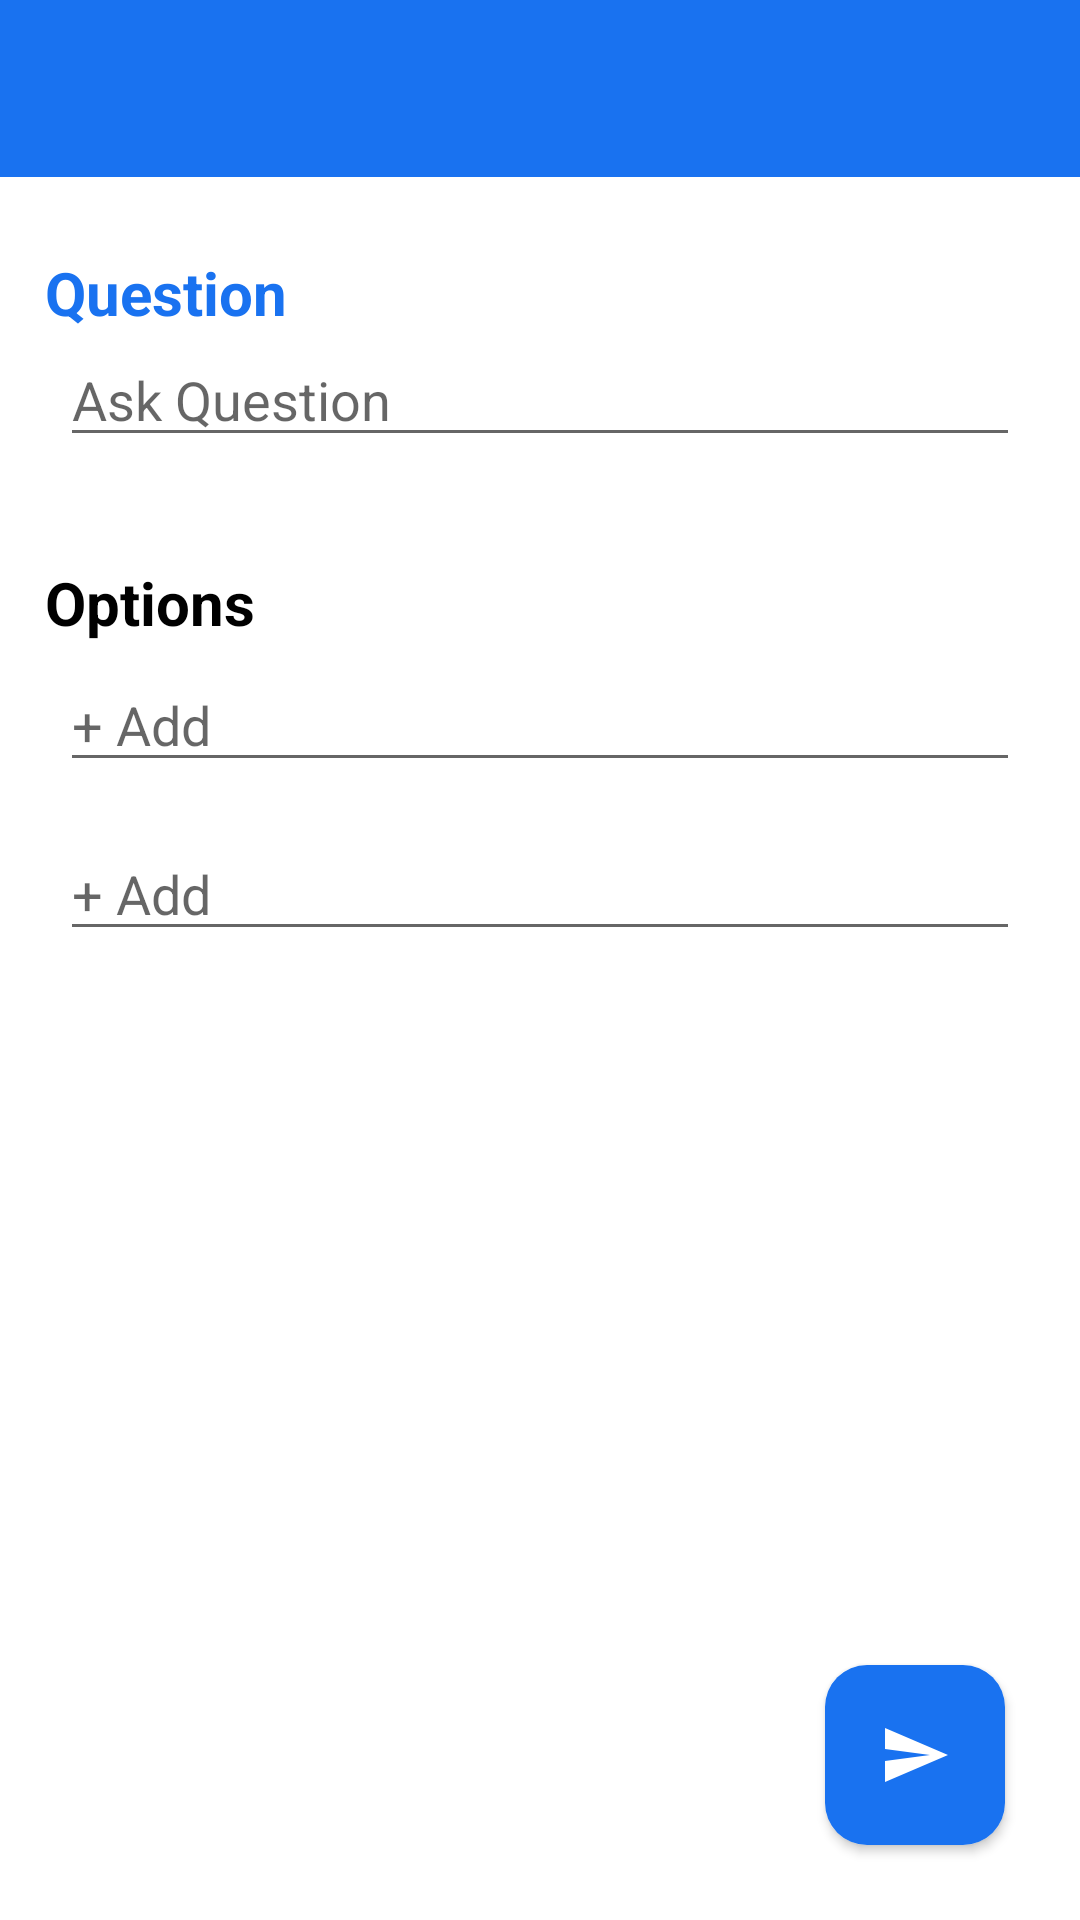

Icons on this 1080×1920 Android screen, each with its box as bbox(x1, y1, x2, y2):
send 24white: bbox(825, 1665, 1005, 1845)
